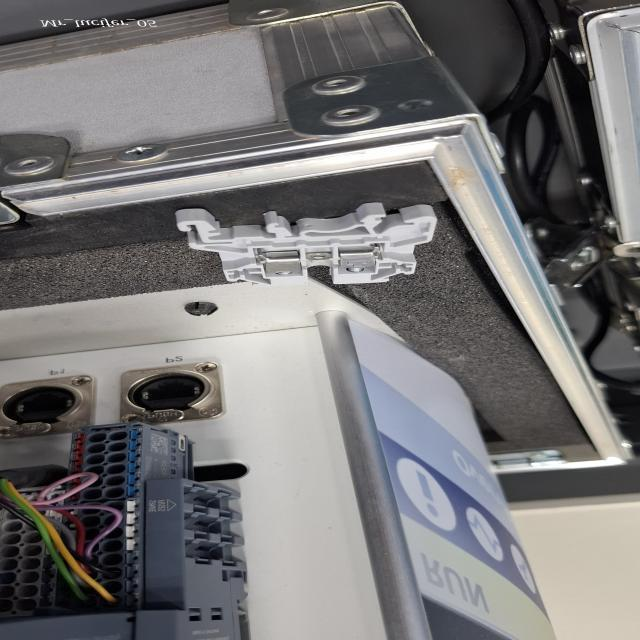Pass: (166, 202, 442, 290)
